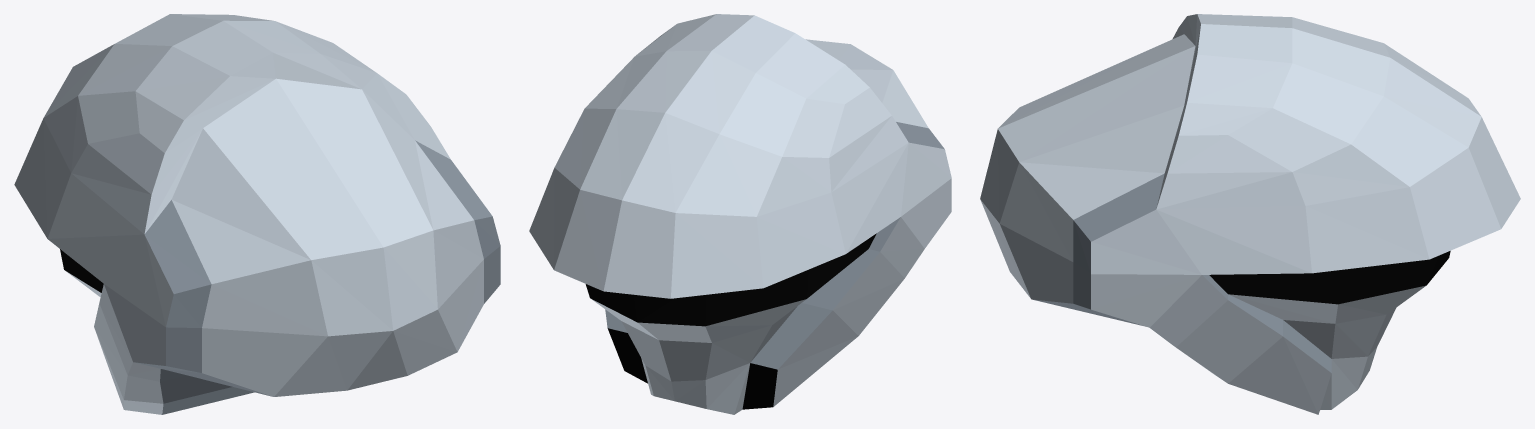
File: Head.FBX
3 views of the same model, side by side, from view 1: azimuth 30°, elevation 25°; view 2: azimuth 150°, elevation 25°; view 3: azimuth 270°, elevation 25° (orthographic). The views are drawn at different scales.
Parts seen in each view (by area): view 1: VIFS002, VIFS003, VIFS001; view 2: VIFS002, VIFS001, VIFS003, VIFS004; view 3: VIFS002, VIFS001, VIFS003.
Boxes of the visible parts, bbox=[...] form: VIFS002: bbox=[14, 14, 483, 414]; VIFS003: bbox=[134, 140, 500, 414]; VIFS001: bbox=[60, 249, 103, 292]; VIFS002: bbox=[529, 14, 951, 414]; VIFS001: bbox=[585, 233, 876, 326]; VIFS003: bbox=[605, 122, 944, 369]; VIFS004: bbox=[607, 328, 777, 409]; VIFS002: bbox=[980, 14, 1520, 414]; VIFS001: bbox=[1209, 251, 1450, 304]; VIFS003: bbox=[1033, 173, 1331, 372].
Size of the model in its own units: 0.385 by 0.431 by 0.58.
